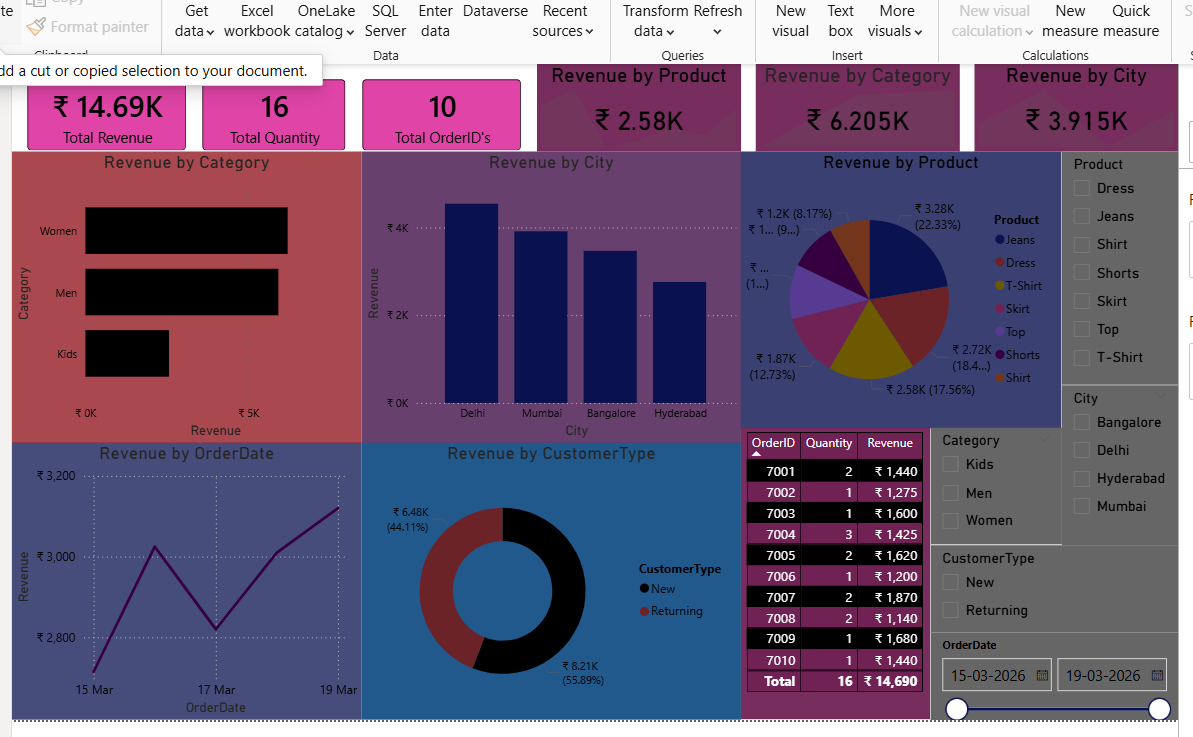

What the dashboard file says about the page in this screenshot:
{"tool":"powerbi","page":{"name":"Page 1","canvas":[1280,720],"ordinal":0},"visuals":[{"type":"cardVisual","fields":{"Data":["Sum(Dataset.Revenue)"]},"box":[0,0,208,112],"z":0},{"type":"kpi","fields":{"TrendLine":["Dataset.City"],"Indicator":["Sum(Dataset.Revenue)"]},"box":[1056,0,224,96],"z":1000},{"type":"kpi","fields":{"Indicator":["Sum(Dataset.Revenue)"],"TrendLine":["Dataset.Category"]},"box":[816,0,224,96],"z":2000},{"type":"cardVisual","fields":{"Data":["Count(Dataset.OrderID)"]},"box":[368,0,208,112],"z":3000},{"type":"kpi","fields":{"Indicator":["Sum(Dataset.Revenue)"],"TrendLine":["Dataset.Product"]},"box":[576,0,224,96],"z":4000},{"type":"cardVisual","fields":{"Data":["Sum(Dataset.Quantity)"]},"box":[192,0,192,112],"z":5000},{"type":"clusteredBarChart","fields":{"Y":["Sum(Dataset.Revenue)"],"Category":["Dataset.Category"]},"box":[0,96,384,320],"z":6000},{"type":"columnChart","fields":{"Category":["Dataset.City"],"Y":["Sum(Dataset.Revenue)"]},"box":[384,96,416,320],"z":7000},{"type":"lineChart","fields":{"Y":["Sum(Dataset.Revenue)"],"Category":["Dataset.OrderDate"]},"box":[0,416,384,304],"z":8000},{"type":"donutChart","fields":{"Category":["Dataset.CustomerType"],"Y":["Sum(Dataset.Revenue)"]},"box":[384,416,416,304],"z":9000},{"type":"pieChart","fields":{"Category":["Dataset.Product"],"Y":["Sum(Dataset.Revenue)"]},"box":[800,96,352,304],"z":10000},{"type":"tableEx","fields":{"Values":["Dataset.OrderID","Sum(Dataset.Quantity)","Sum(Dataset.Revenue)"]},"box":[800,400,208,320],"z":10001},{"type":"slicer","fields":{"Values":["Dataset.Category"]},"box":[1008,400,144,128],"z":10003},{"type":"slicer","fields":{"Values":["Dataset.City"]},"box":[1152,352,128,176],"z":10004},{"type":"slicer","fields":{"Values":["Dataset.CustomerType"]},"box":[1008,528,272,96],"z":10005},{"type":"slicer","fields":{"Values":["Dataset.Product"]},"box":[1152,96,128,256],"z":10006},{"type":"slicer","fields":{"Values":["Dataset.OrderDate"]},"box":[1008,624,272,96],"z":10007}]}

Visuals, with their boxes in screenshot pixels (x1, y1, x2, y2):
cardVisual - Sum(Dataset.Revenue): (3,59,194,162)
kpi - Dataset.City x Sum(Dataset.Revenue): (974,59,1180,147)
kpi - Sum(Dataset.Revenue) x Dataset.Category: (753,59,959,147)
cardVisual - Count(Dataset.OrderID): (341,59,533,162)
kpi - Sum(Dataset.Revenue) x Dataset.Product: (533,59,738,147)
cardVisual - Sum(Dataset.Quantity): (180,59,356,162)
clusteredBarChart - Sum(Dataset.Revenue) x Dataset.Category: (3,147,356,441)
columnChart - Dataset.City x Sum(Dataset.Revenue): (356,147,738,441)
lineChart - Sum(Dataset.Revenue) x Dataset.OrderDate: (3,441,356,721)
donutChart - Dataset.CustomerType x Sum(Dataset.Revenue): (356,441,738,721)
pieChart - Dataset.Product x Sum(Dataset.Revenue): (738,147,1062,427)
tableEx - Dataset.OrderID x Sum(Dataset.Quantity): (738,427,930,721)
slicer - Dataset.Category: (930,427,1062,544)
slicer - Dataset.City: (1062,383,1180,544)
slicer - Dataset.CustomerType: (930,544,1180,633)
slicer - Dataset.Product: (1062,147,1180,383)
slicer - Dataset.OrderDate: (930,633,1180,721)
